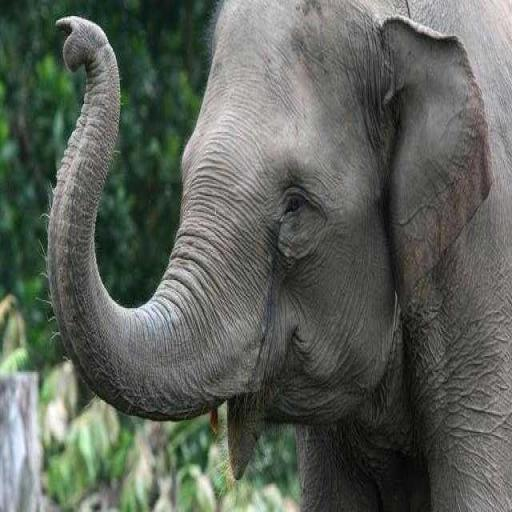Elephant: (43, 0, 510, 510)
